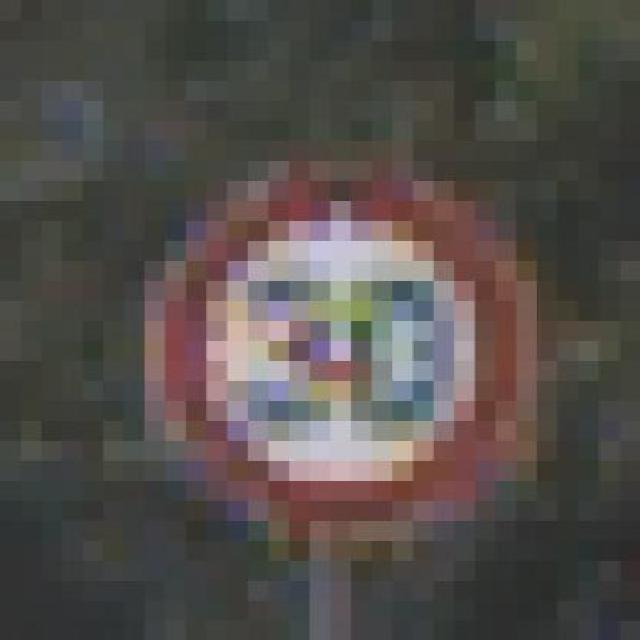Speed Limit 30 KMPh: (124, 120, 578, 560)
